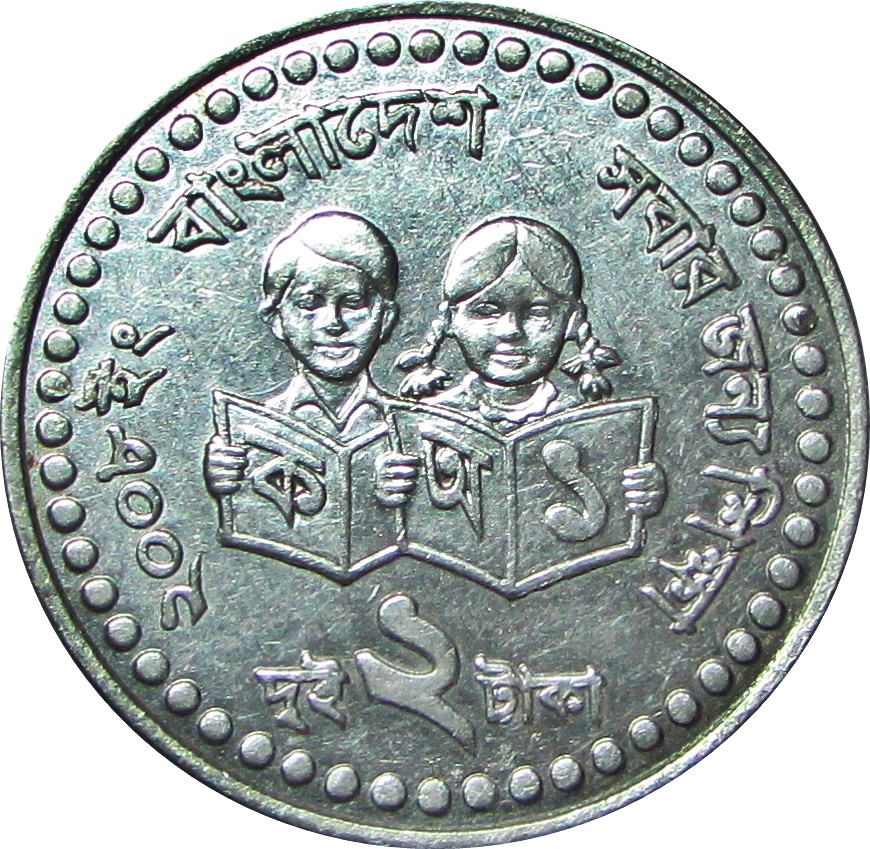5 taka coin: (1, 4, 870, 849)
